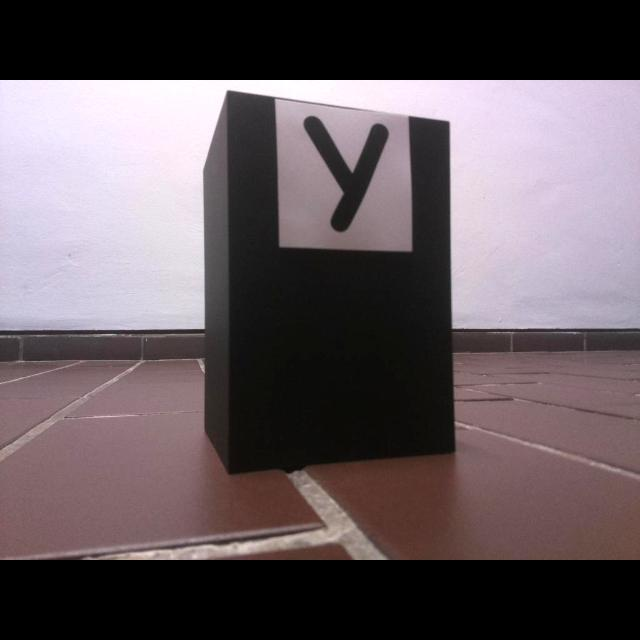Y: (304, 116, 389, 232)
